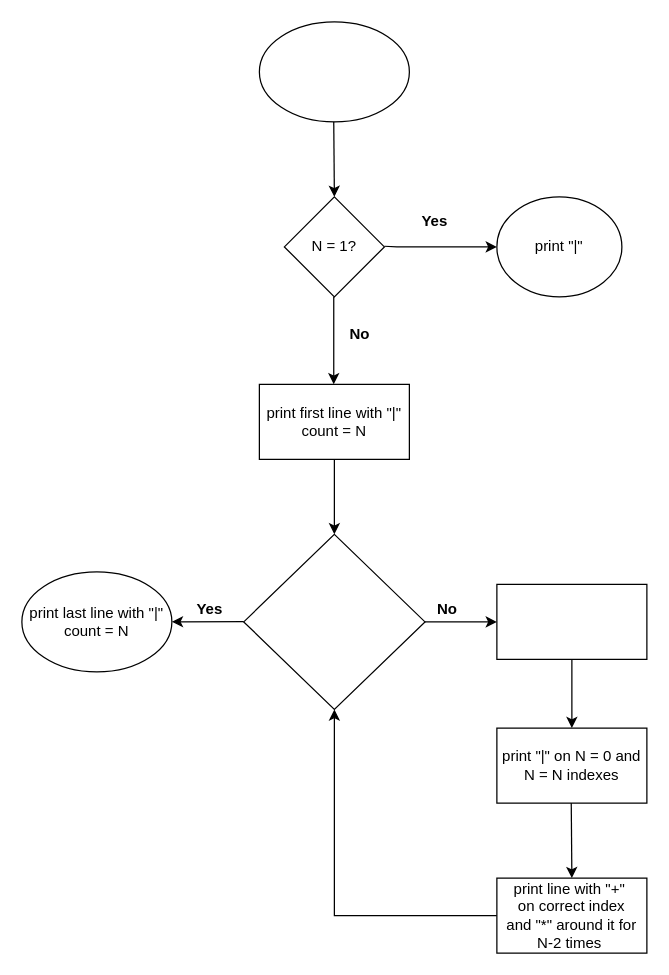
The diagram is 669 pixels wide and 975 high, and some of its shapes have lost their labels. Here are the shapes that lost their labels. From the top down, the centre of each, then its label:
(333,71): Start
(333,621): N of printed rows = N - 1?
(571,621): "+" index for next line += 1
